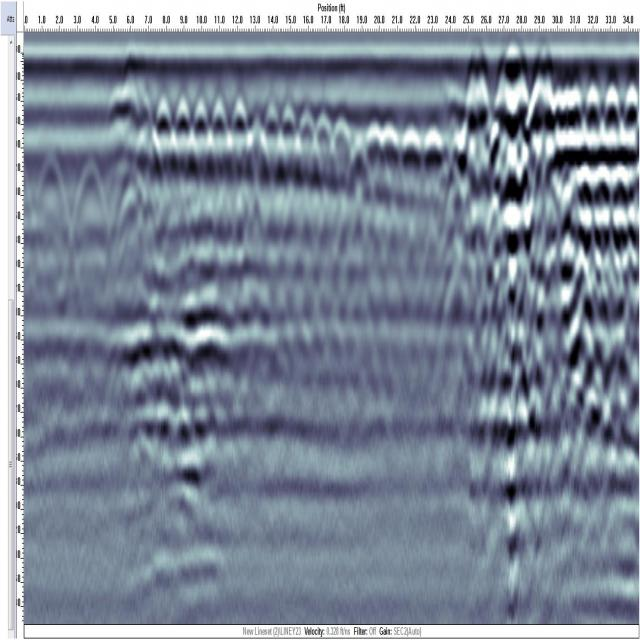hyperbola: (398, 120, 425, 204), (188, 90, 214, 174), (150, 94, 176, 166), (171, 89, 193, 165)
